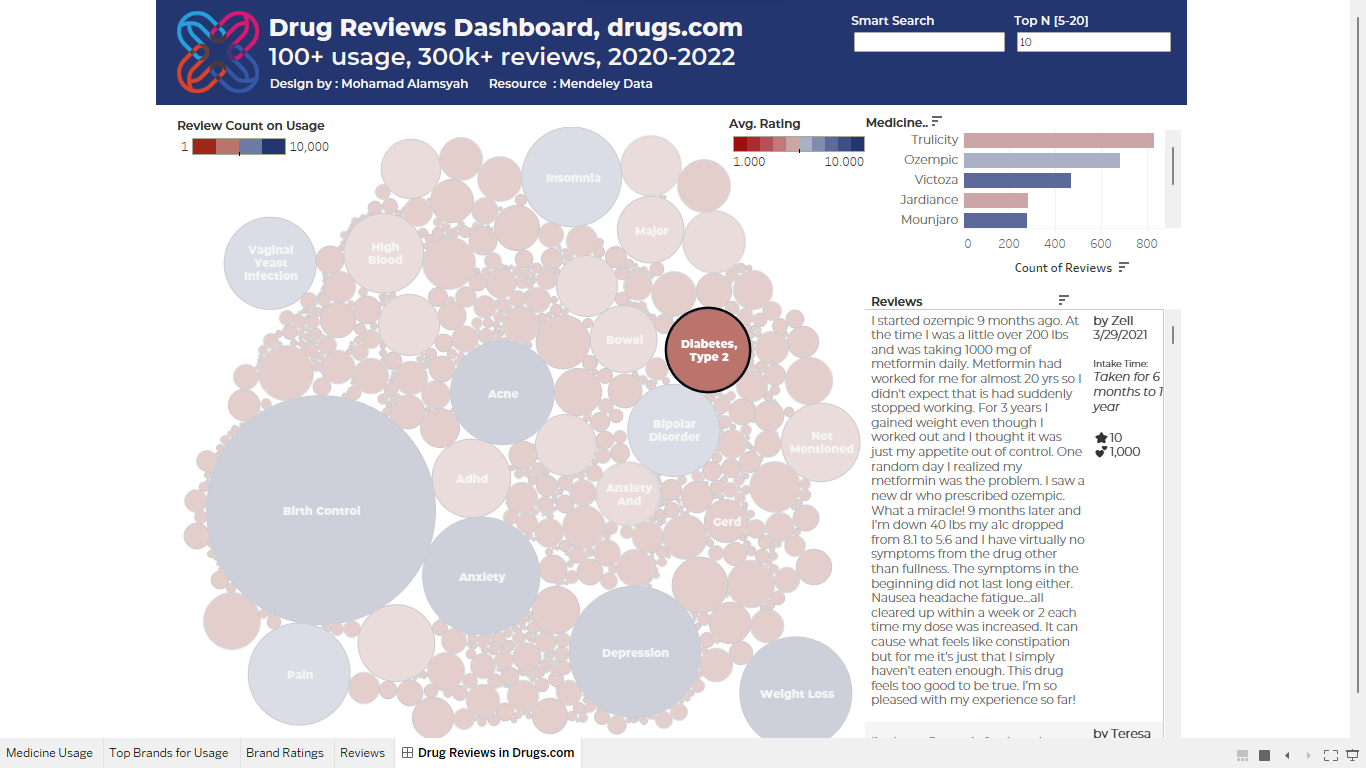

The page's visual inventory and layout, read from the dashboard file:
{"tool":"tableau","page":{"name":"drug-reviews-bigquery","canvas":[1000,800],"ordinal":0},"visuals":[{"type":"text","box":[92,10,523,68]},{"type":"image","param":"C:/Users/acer/Downloads/PROJECTS-2.0/DrugReviews/drugscom-logomark-112x112.png","box":[11,14,78,83]},{"type":"parameter","param":"[Parameters].[Parameter 2]","box":[807,14,159,67]},{"type":"parameter","param":"[Parameters].[Parameter 1]","box":[619,15,151,44]},{"type":"text","box":[620,56,180,45]},{"type":"text","box":[819,62,134,33]},{"type":"text","box":[93,68,440,32]},{"type":"worksheet","title":"Top Brands by Usage","mark":"Automatic","rows":["MedicineBrandName"],"cols":["Reviews"],"box":[605,100,388,215]},{"type":"legend","title":"Medicine Usage","param":"[federated.18pzkps1q4mk2b1e8keax0oiqh2z].[cnt:MedicineUsedFor:qk]","box":[18,115,168,76]},{"type":"legend","title":"Top Brands by Usage","param":"[federated.18pzkps1q4mk2b1e8keax0oiqh2z].[avg:Rating:qk]","box":[357,117,233,76]},{"type":"worksheet","title":"Medicine Usage","mark":"Circle","box":[10,176,591,608]},{"type":"worksheet","title":"Top Generics by Usage","mark":"Automatic","rows":["MedicineGenericName"],"cols":["Reviews"],"box":[606,305,387,214]},{"type":"text","box":[608,525,384,47]},{"type":"worksheet","title":"Reviews","mark":"Automatic","rows":["Reviews"],"box":[605,556,388,234]}]}

Visuals, with their boxes on the page's 1000x800 design canvas (x1, y1, x2, y2). These are canvas units, not pixel positions in the 1366x768 screenshot, which may show the page scaled, cropped or inside an application window:
text: [x1=92, y1=10, x2=615, y2=78]
image: [x1=11, y1=14, x2=89, y2=97]
parameter: [x1=807, y1=14, x2=966, y2=81]
parameter: [x1=619, y1=15, x2=770, y2=59]
text: [x1=620, y1=56, x2=800, y2=101]
text: [x1=819, y1=62, x2=953, y2=95]
text: [x1=93, y1=68, x2=533, y2=100]
"Top Brands by Usage" worksheet: [x1=605, y1=100, x2=993, y2=315]
"Medicine Usage" legend: [x1=18, y1=115, x2=186, y2=191]
"Top Brands by Usage" legend: [x1=357, y1=117, x2=590, y2=193]
"Medicine Usage" worksheet (Circle marks): [x1=10, y1=176, x2=601, y2=784]
"Top Generics by Usage" worksheet: [x1=606, y1=305, x2=993, y2=519]
text: [x1=608, y1=525, x2=992, y2=572]
"Reviews" worksheet: [x1=605, y1=556, x2=993, y2=790]
